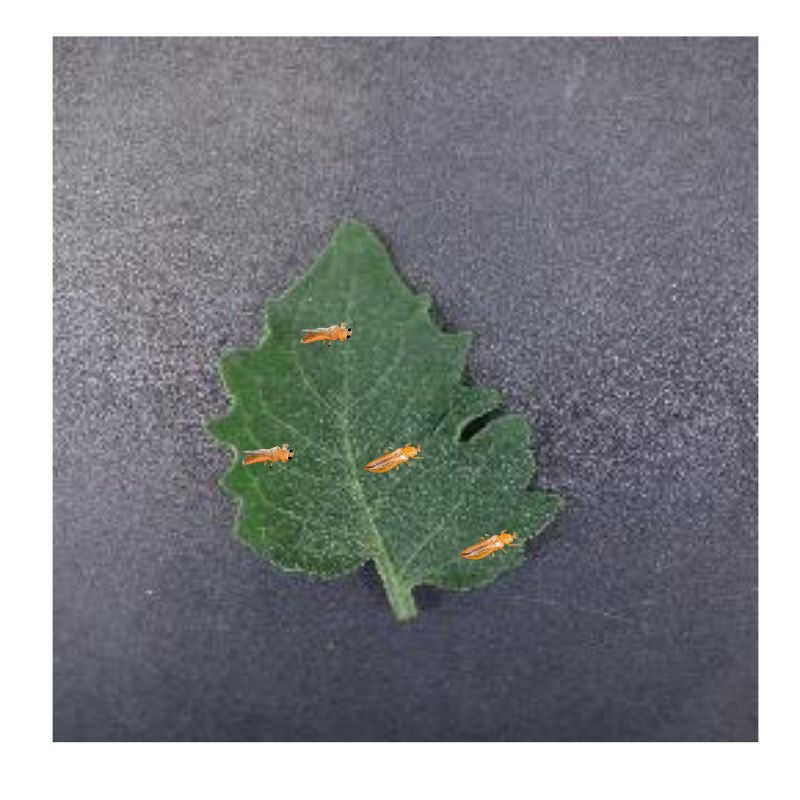thrips: (457, 529, 522, 560), (364, 440, 423, 472), (235, 440, 293, 469), (299, 319, 351, 348)
